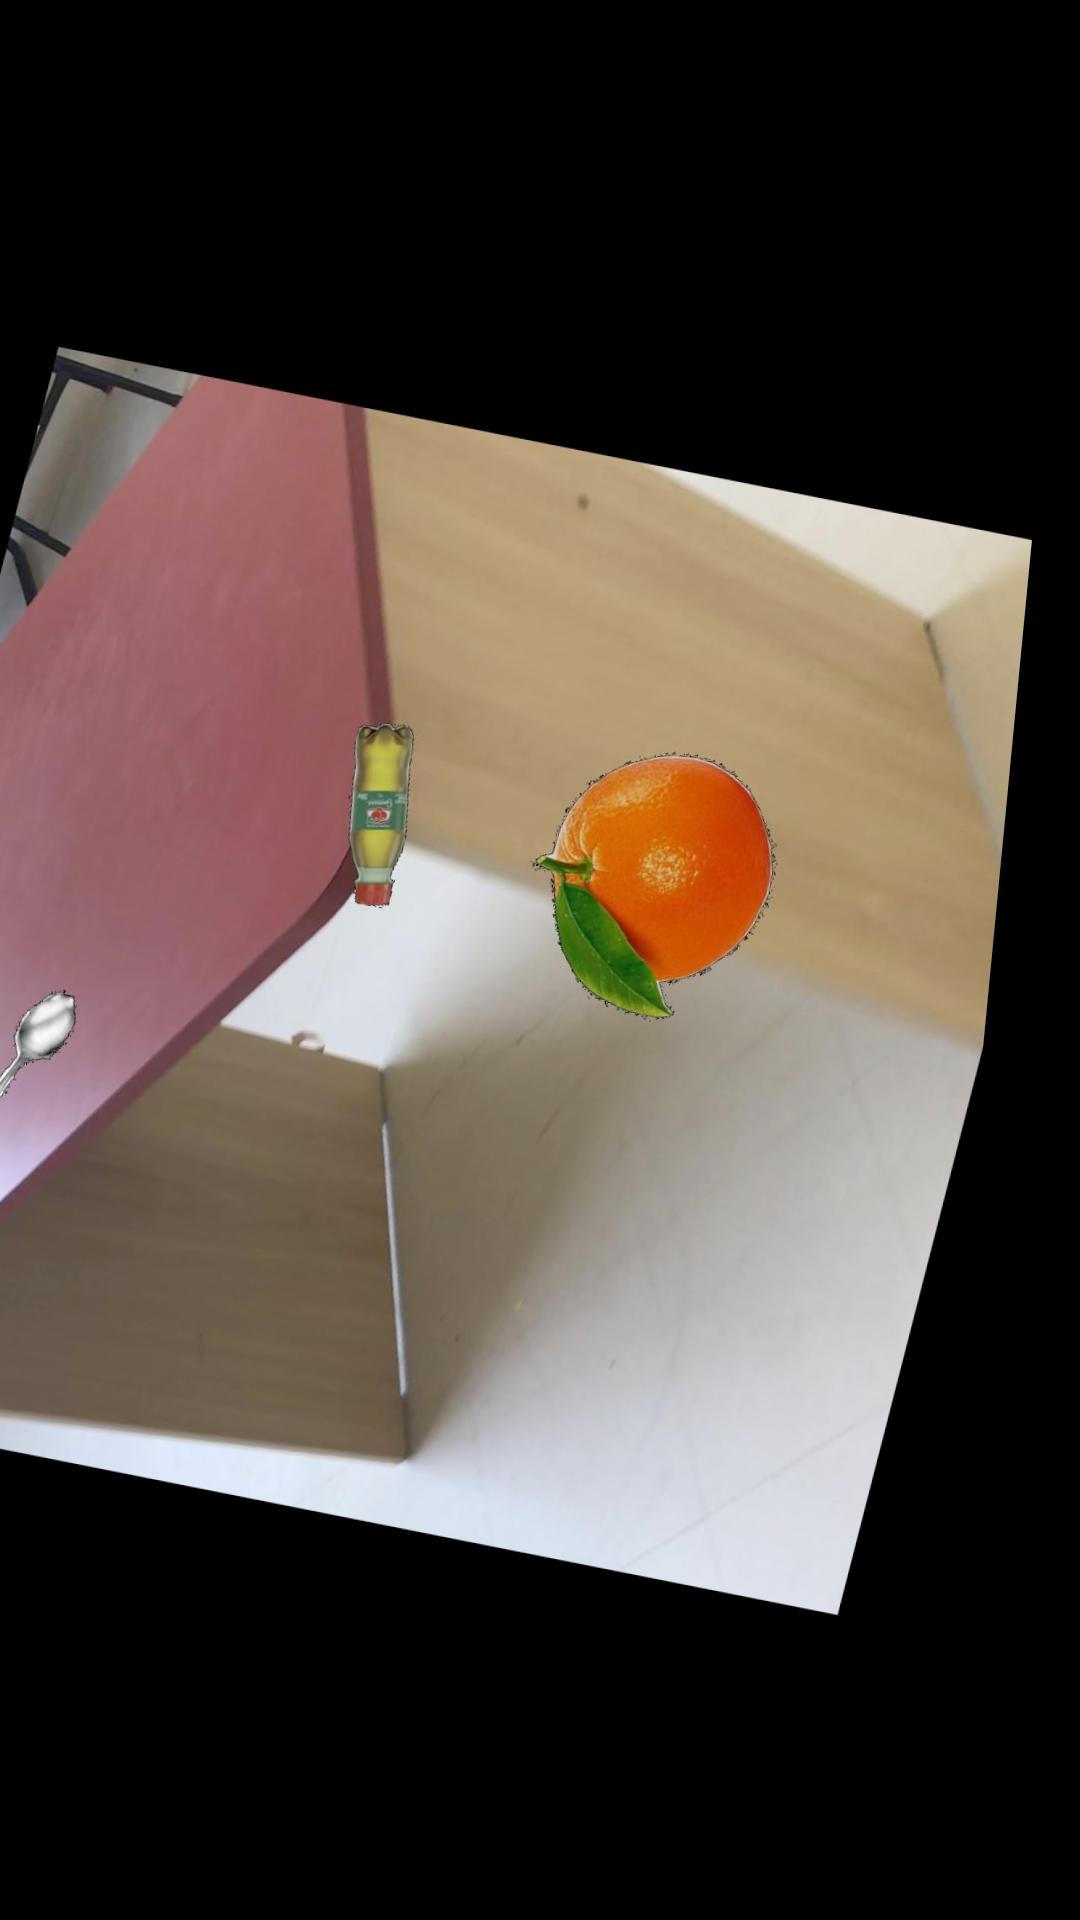guarana: (364, 716, 427, 899)
orange: (551, 745, 791, 1010)
spoon: (0, 985, 95, 1126)
